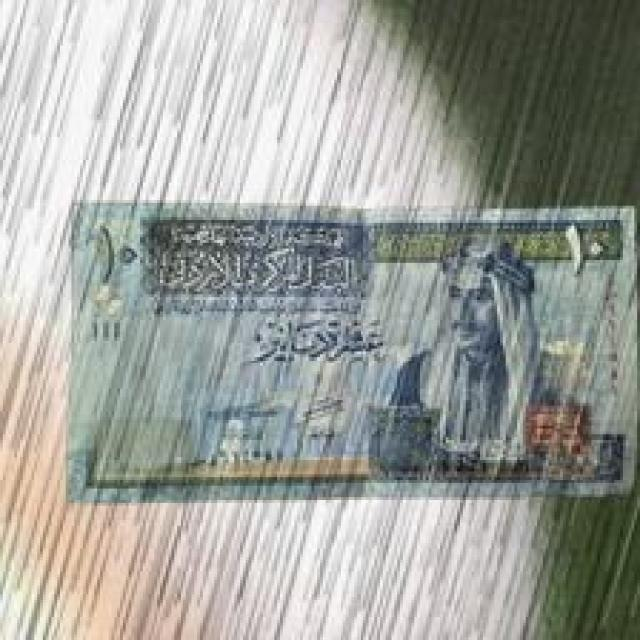10-dinar: (61, 202, 638, 506)
